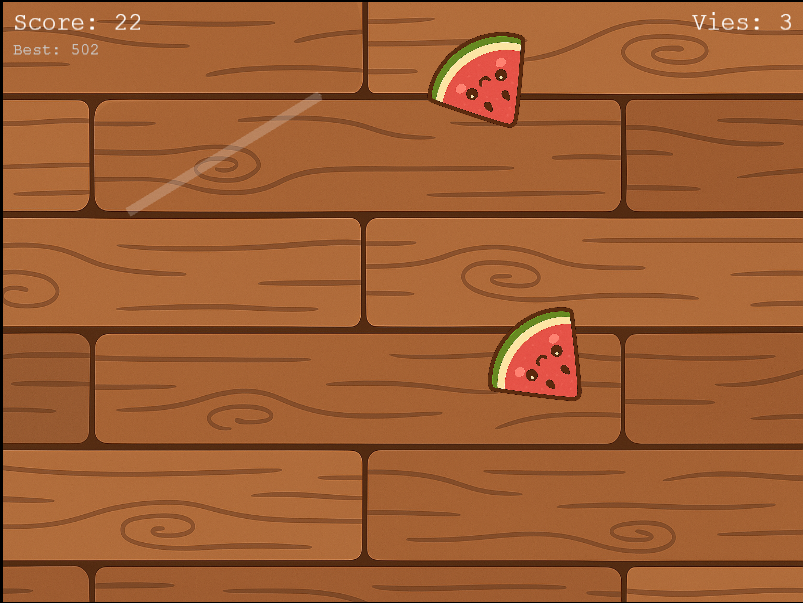fruit: (423, 22, 534, 133), (482, 302, 590, 410)
